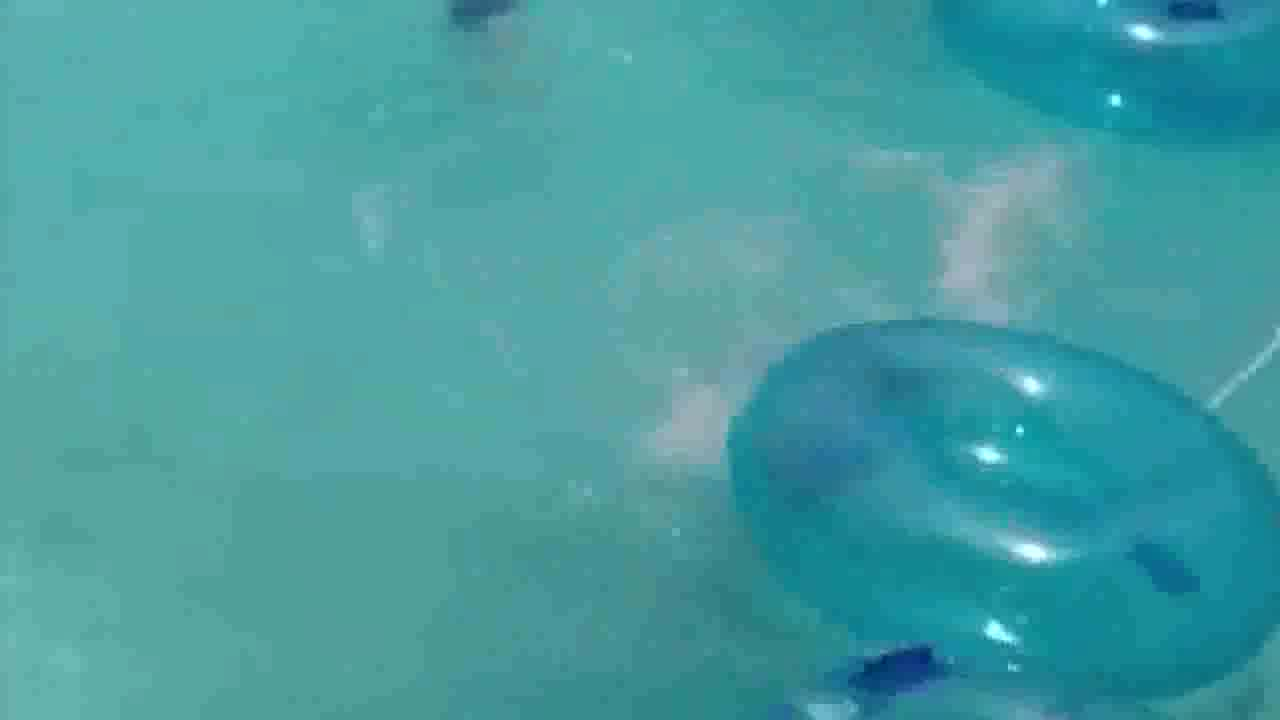Drowning: (917, 147, 1070, 391)
